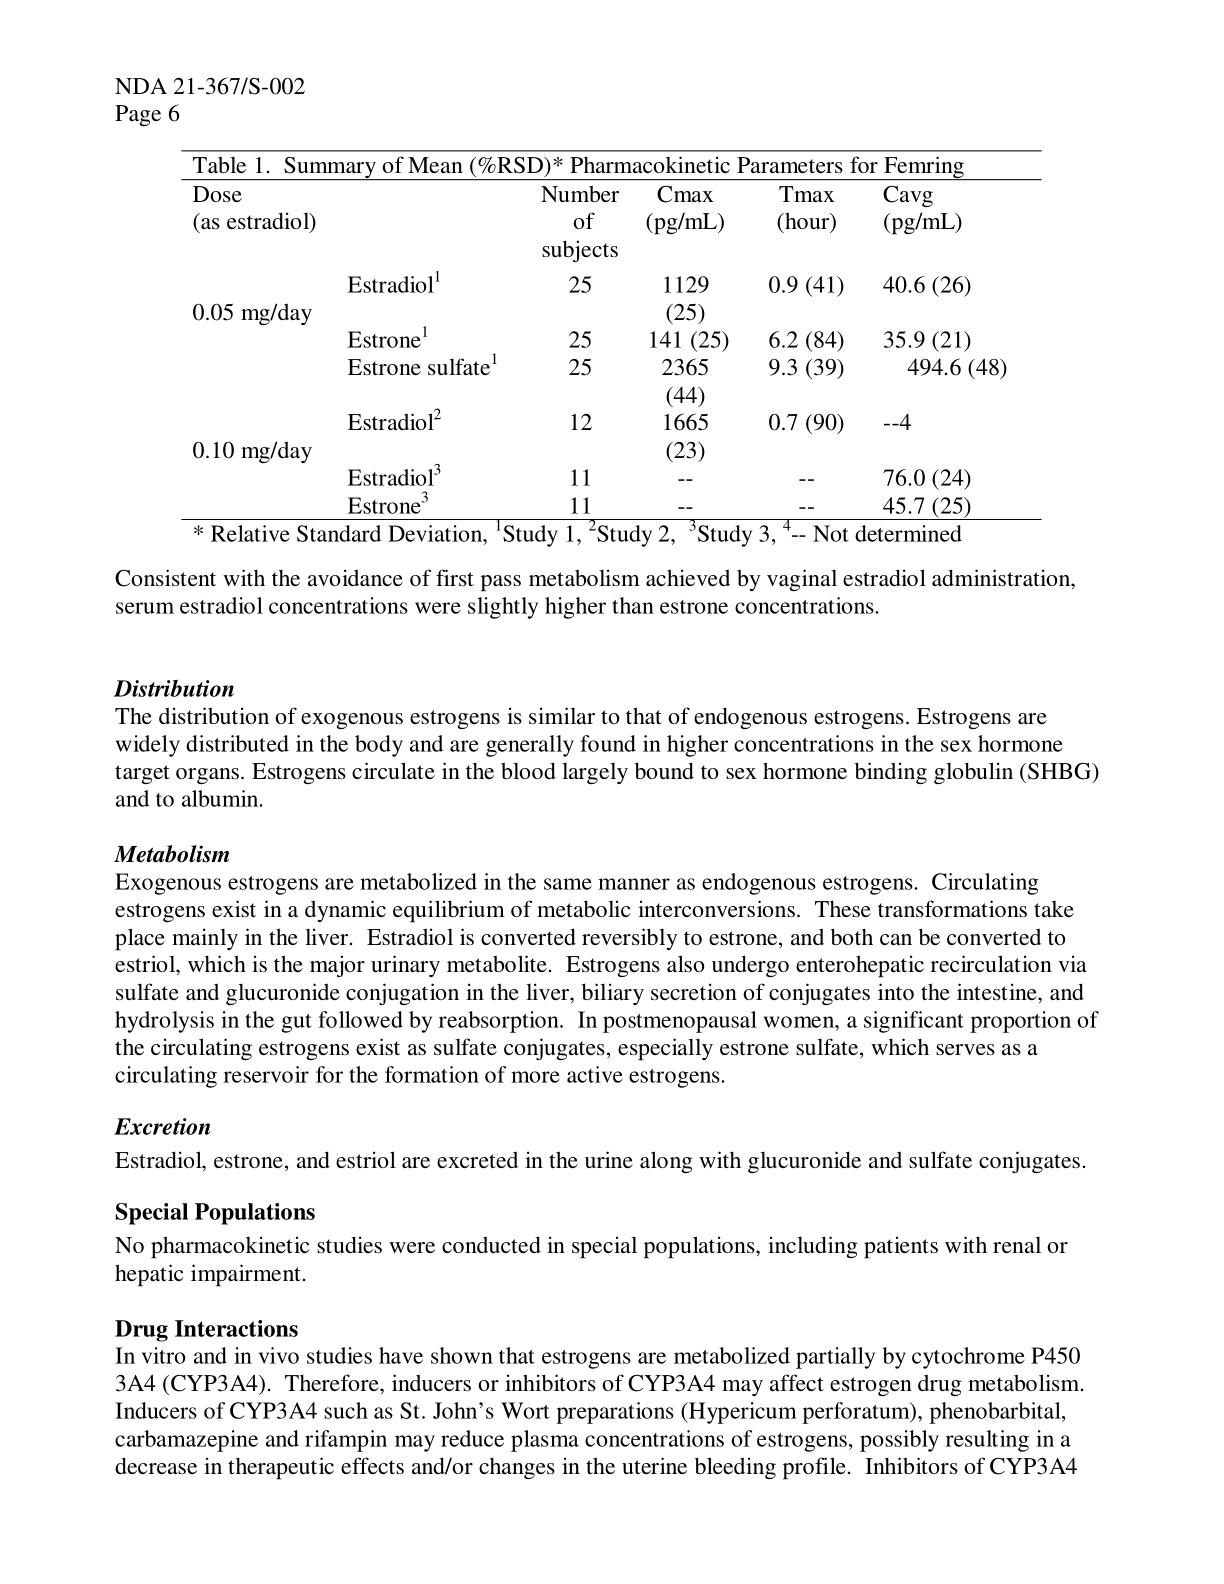partial_lined: (179, 177, 1043, 521)
